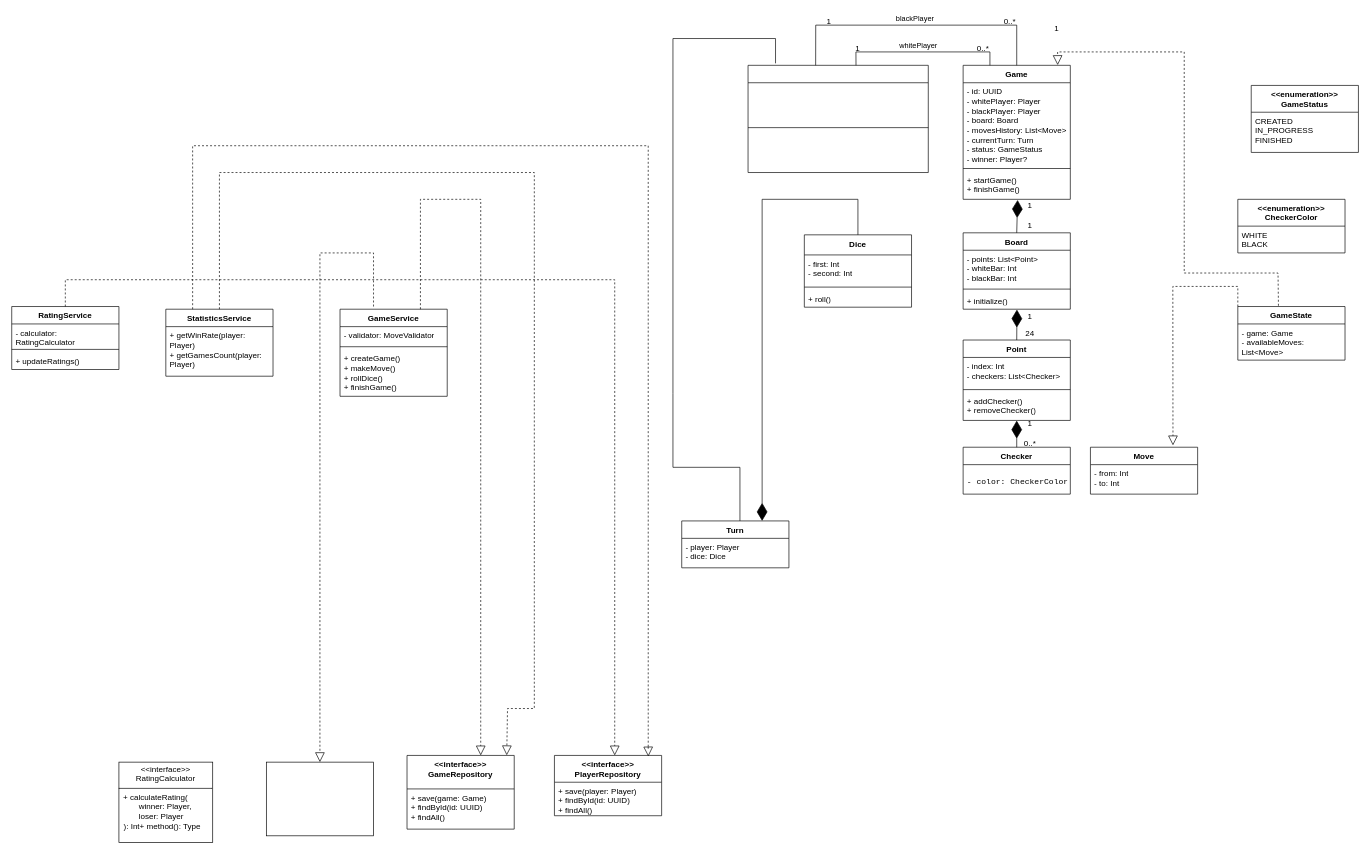
This 1370x854 diagram has some shape labels left out. The shapes that lost their labels are listed below. From the top down, each one's centre as x and y in pixels, then its label:
(x=837, y=119): Player - id: UUID - nickname: String - rating: Int + getRating(): Int
(x=320, y=798): <<interface>> MoveValidator + validateMove( game: Game, move: Move ): Boolean
